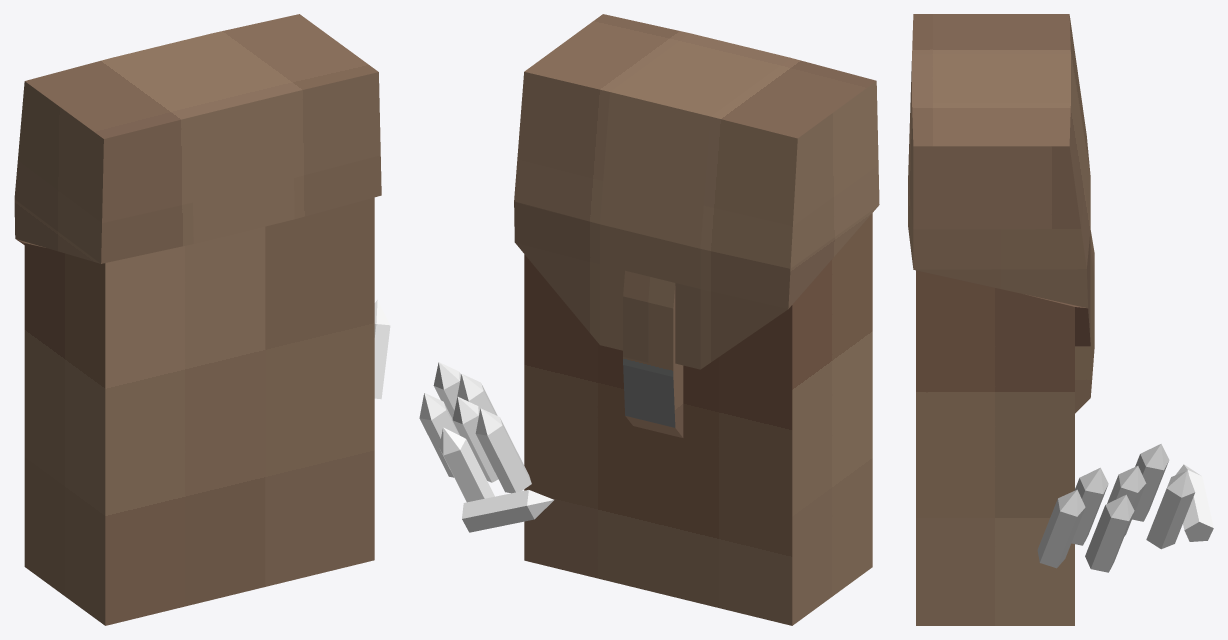
The model's file is PistolAmmo.gltf.
The picture shows the model from 3 angles, left to right: view 1: azimuth 30°, elevation 25°; view 2: azimuth 150°, elevation 25°; view 3: azimuth 270°, elevation 25°; orthographic projection.
Parts seen in each view (by area): view 1: Satchel, cylinder; view 2: Satchel, cylinder (×7); view 3: Satchel, cylinder (×7).
Boxes of the visible parts, x1,y1,x2,y2 form: Satchel: (14, 14, 381, 625); cylinder: (374, 300, 390, 399); Satchel: (514, 14, 879, 625); cylinder (×7): (419, 362, 553, 532); Satchel: (908, 14, 1094, 625); cylinder (×7): (1037, 444, 1213, 572).
Bounding box in the file's own units: 0.1875 × 0.2406 × 0.1382.
2 materials, 1 textured.
